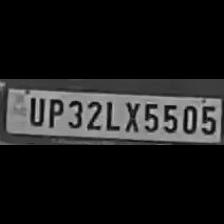0: (178, 102, 198, 134)
2: (84, 97, 103, 130)
3: (64, 96, 82, 128)
5: (140, 100, 160, 132), (198, 103, 218, 135), (160, 100, 178, 134)
L: (102, 97, 120, 131)
P: (44, 95, 64, 127)
U: (23, 96, 45, 127)
X: (120, 98, 140, 132)
